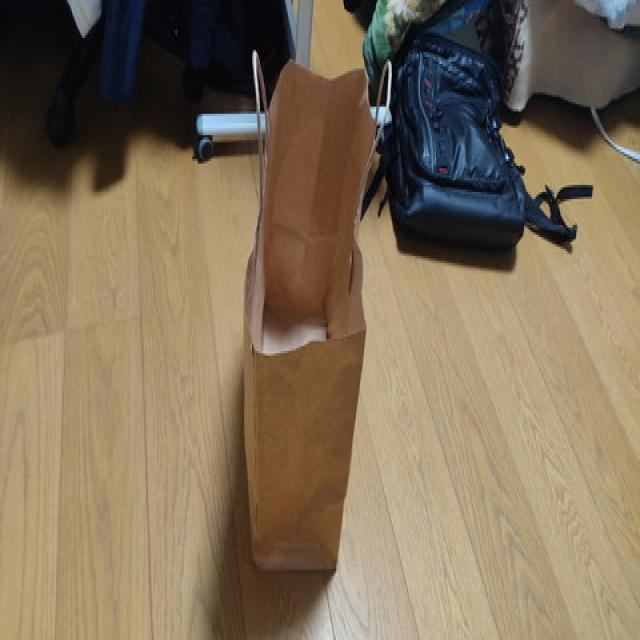paper bag: (239, 39, 394, 582)
